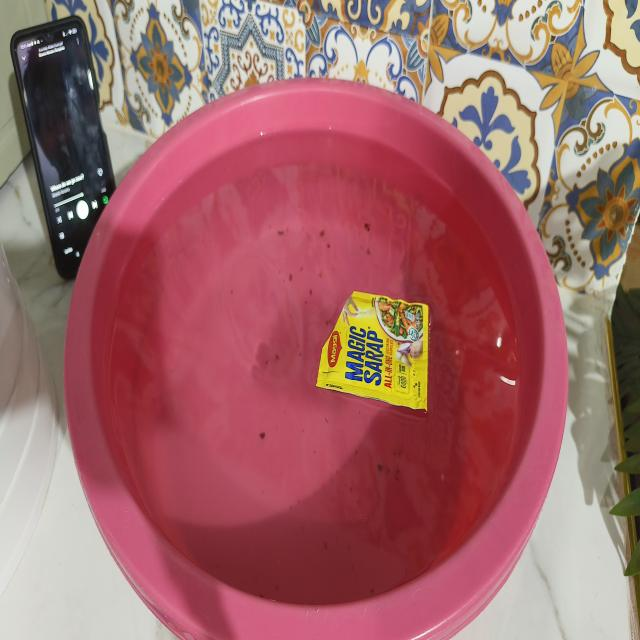Plastic Wrapper: (297, 245, 442, 448)
